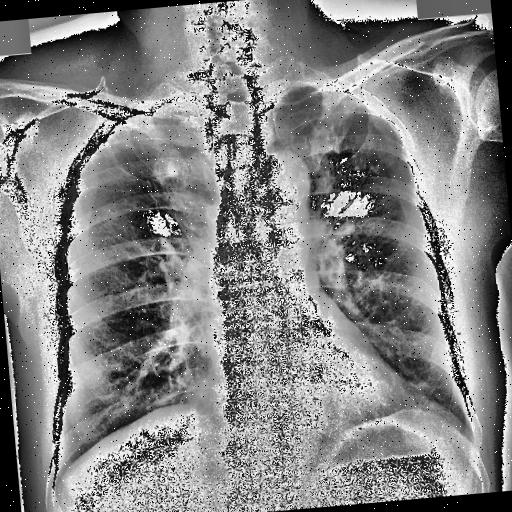0- Aortic enlargement: (250, 144, 315, 223), (247, 146, 314, 220), (260, 147, 314, 224)
11- Pleural thickening: (80, 103, 160, 152), (96, 119, 148, 150)
13- Pulmonary fibrosis: (346, 149, 409, 199), (106, 137, 166, 189), (319, 199, 360, 247), (348, 148, 398, 180), (348, 150, 396, 178)
2- Calcification: (291, 172, 312, 207)
